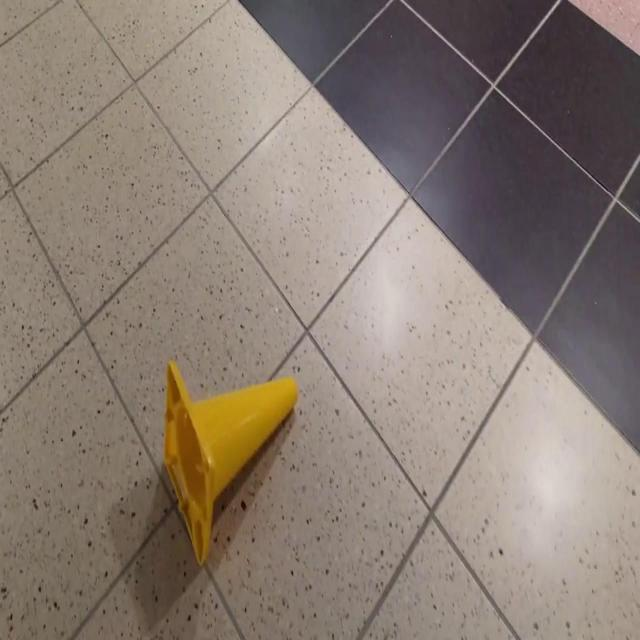frc_cone: (162, 363, 300, 566)
